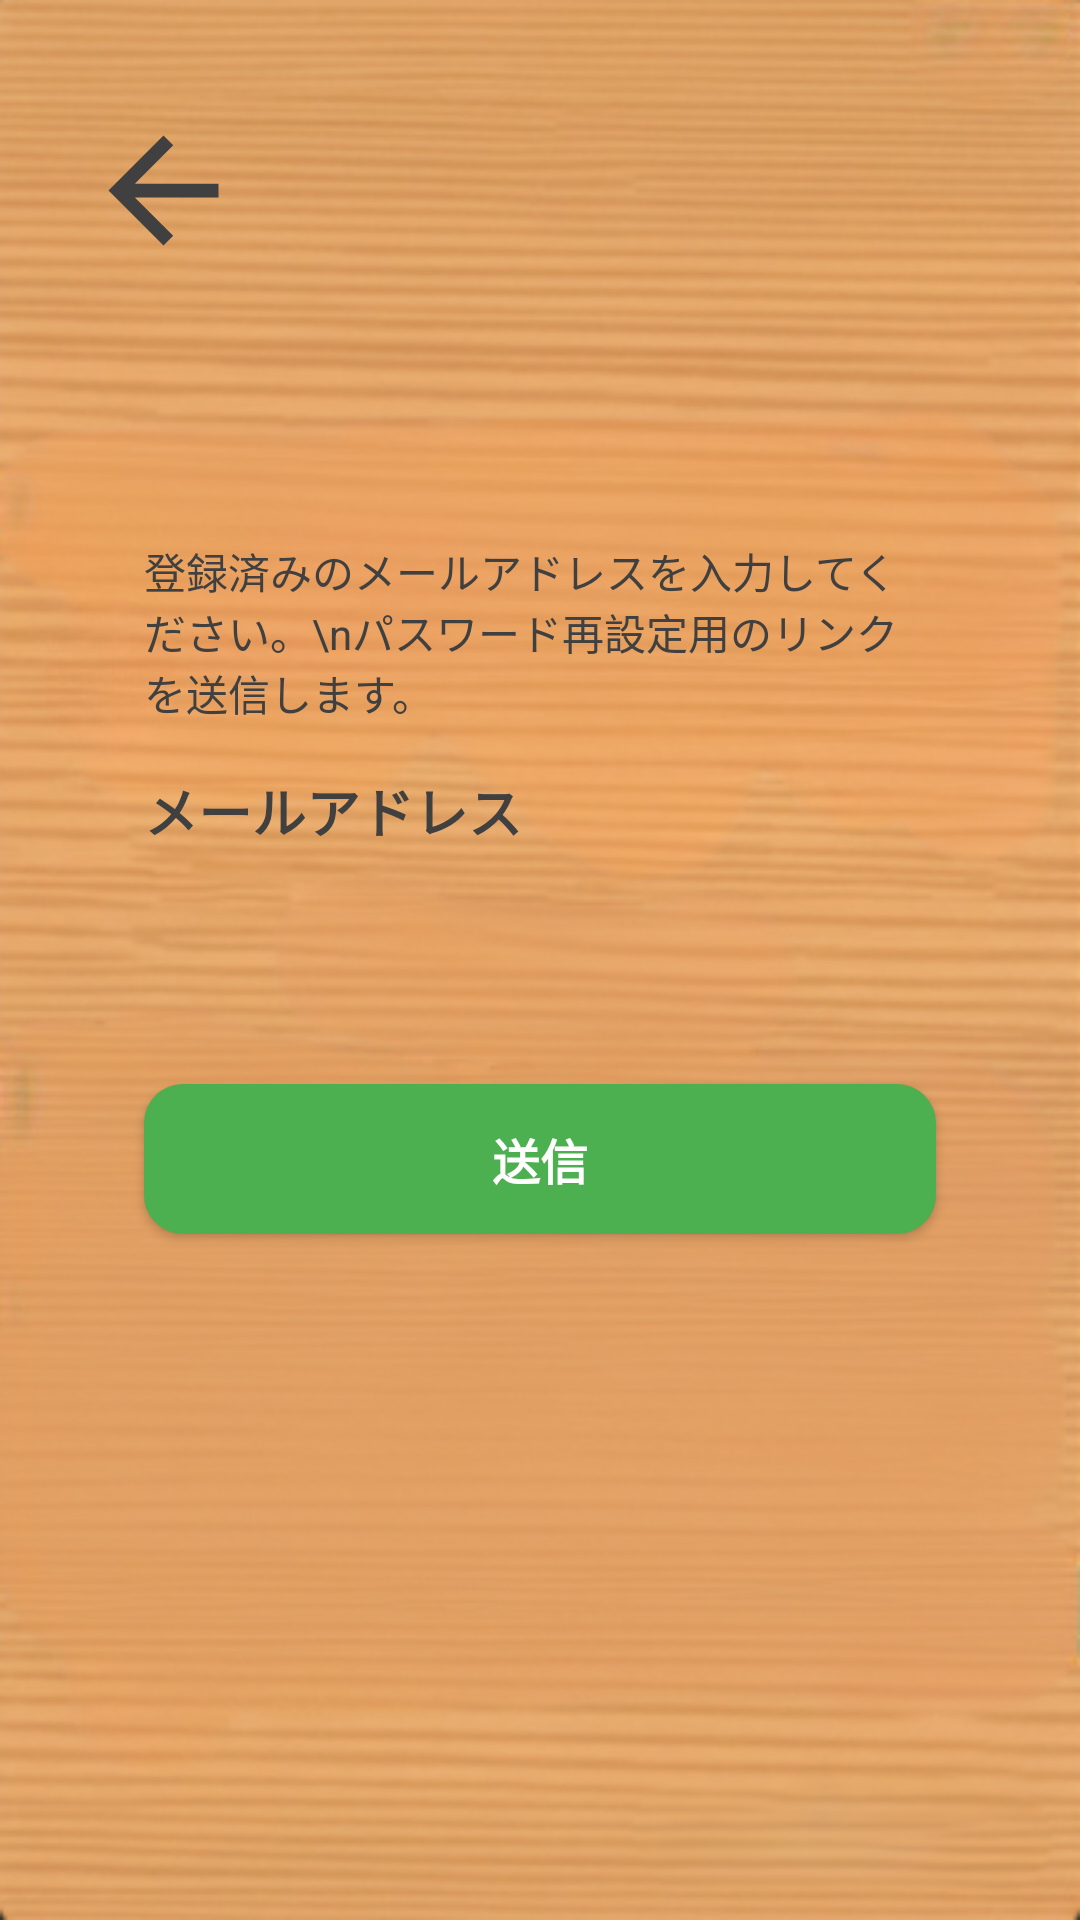

Named icons in this screenshot (1080 × 1920) and their centers, (x,y):
戻る: (163,190)
